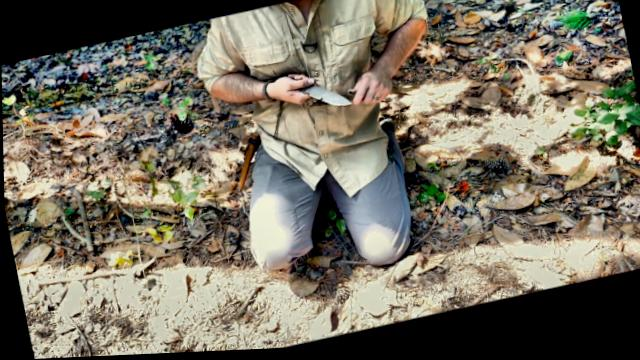knife: (266, 63, 354, 126)
